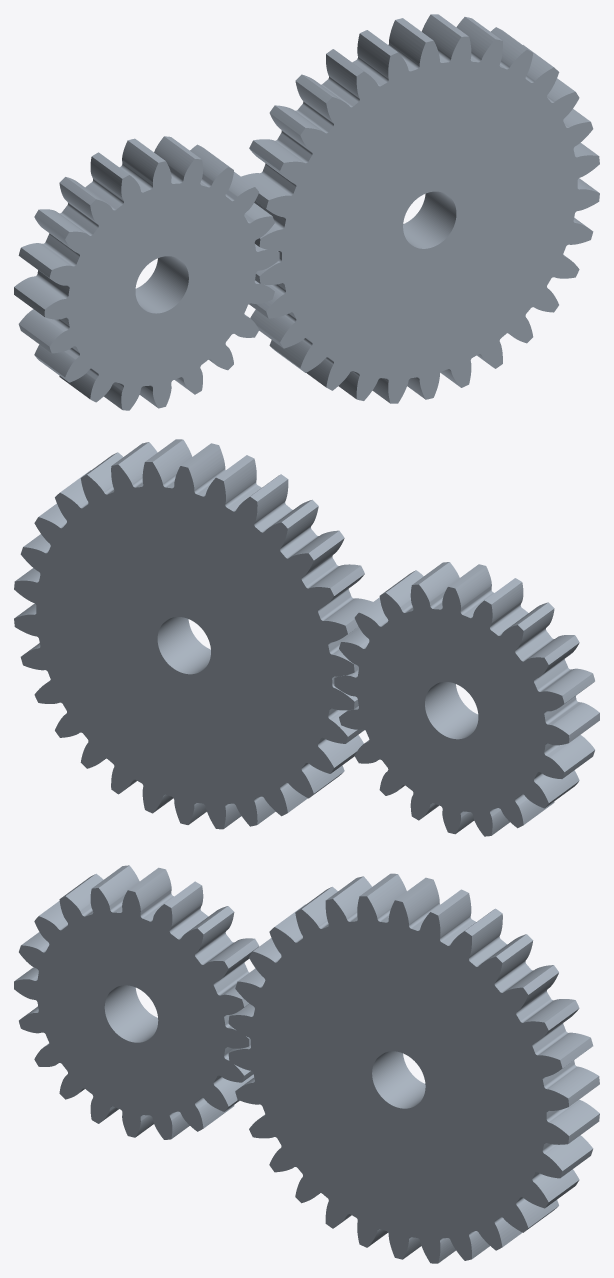
Rendered from reference.glb.
3 renders of one model, top to bottom at view 1: azimuth 30°, elevation 25°; view 2: azimuth 150°, elevation 25°; view 3: azimuth 330°, elevation 25°, orthographic.
Parts seen in each view (by area): view 1: reference.tmp.stl; view 2: reference.tmp.stl; view 3: reference.tmp.stl.
Part boxes in pixels (left/top/right/bottom): reference.tmp.stl: left=14, top=14, right=599, bottom=410; reference.tmp.stl: left=14, top=439, right=599, bottom=836; reference.tmp.stl: left=14, top=865, right=599, bottom=1263.
Size of the model in its own units: 104 by 64 by 10.07.
